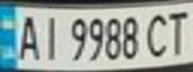8: (121, 11, 145, 61), (103, 14, 124, 62)
9: (63, 12, 87, 62), (84, 14, 106, 62)
A: (12, 11, 42, 62)
C: (142, 9, 172, 58)
I: (36, 11, 63, 61)
T: (163, 7, 193, 56)
